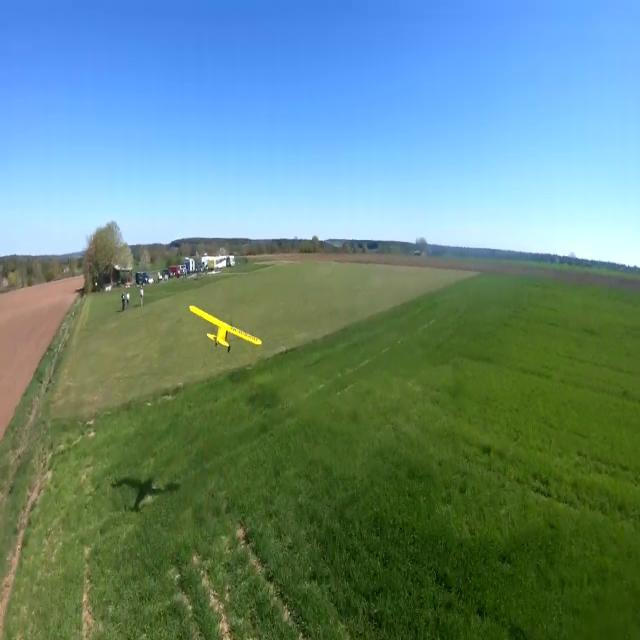iha: (220, 304, 232, 348)
